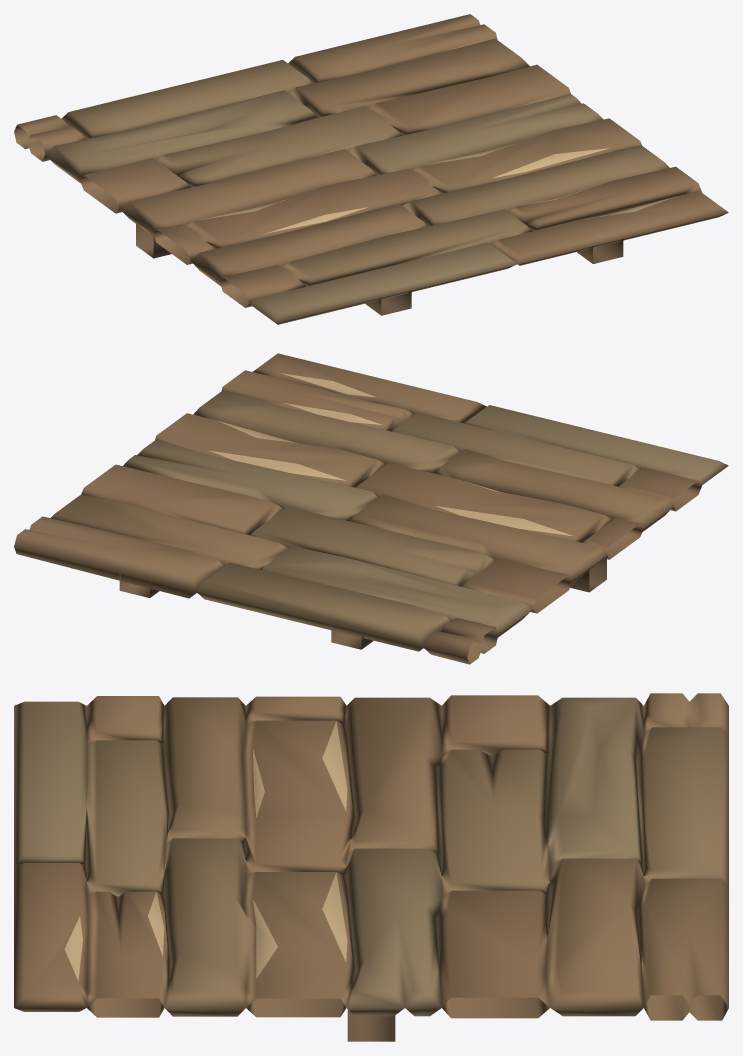
File: rpgpp_ag_floor_01b_3x3_2side.fbx
3 views of the same model, one above another, from view 1: azimuth 30°, elevation 25°; view 2: azimuth 150°, elevation 25°; view 3: azimuth 270°, elevation 25° (orthographic). The views are drawn at different scales.
Parts seen in each view (by area): view 1: rpgpp_ag_floor_01b_3x3_2side; view 2: rpgpp_ag_floor_01b_3x3_2side; view 3: rpgpp_ag_floor_01b_3x3_2side.
Part boxes in pixels (left/top/right/bottom): rpgpp_ag_floor_01b_3x3_2side: left=14, top=14, right=728, bottom=324; rpgpp_ag_floor_01b_3x3_2side: left=14, top=353, right=728, bottom=664; rpgpp_ag_floor_01b_3x3_2side: left=14, top=693, right=728, bottom=1041.
Size of the model in its own units: 3 by 0.215 by 3.
